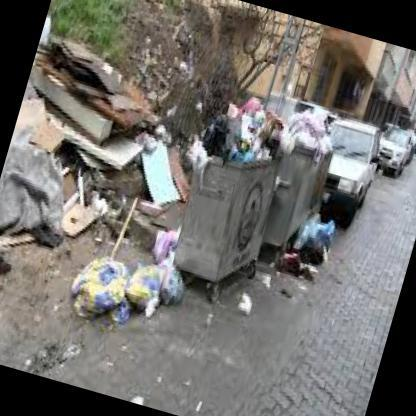Garbage: (63, 233, 172, 338), (196, 86, 295, 171), (278, 210, 338, 286), (282, 108, 332, 156)
